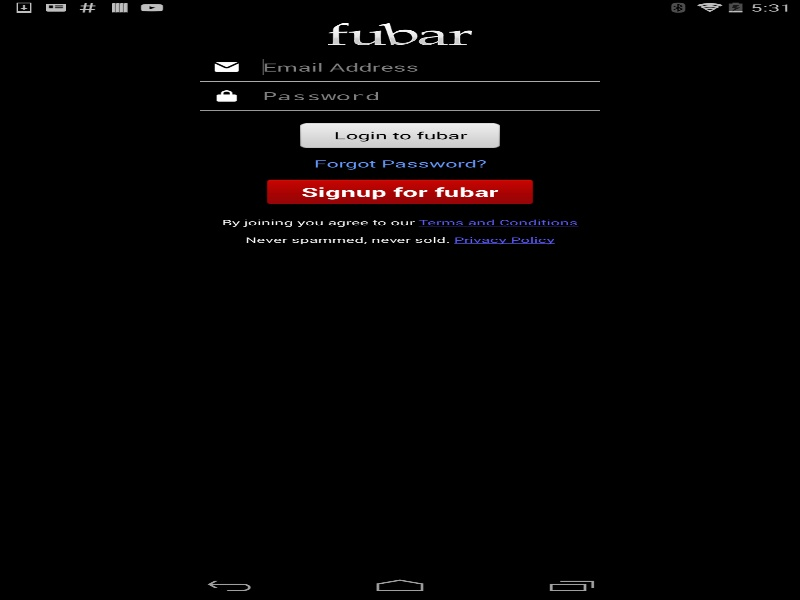Button: (266, 179, 533, 204), (300, 123, 500, 148), (300, 156, 500, 171)
Input: (252, 53, 585, 81), (252, 81, 585, 109)
